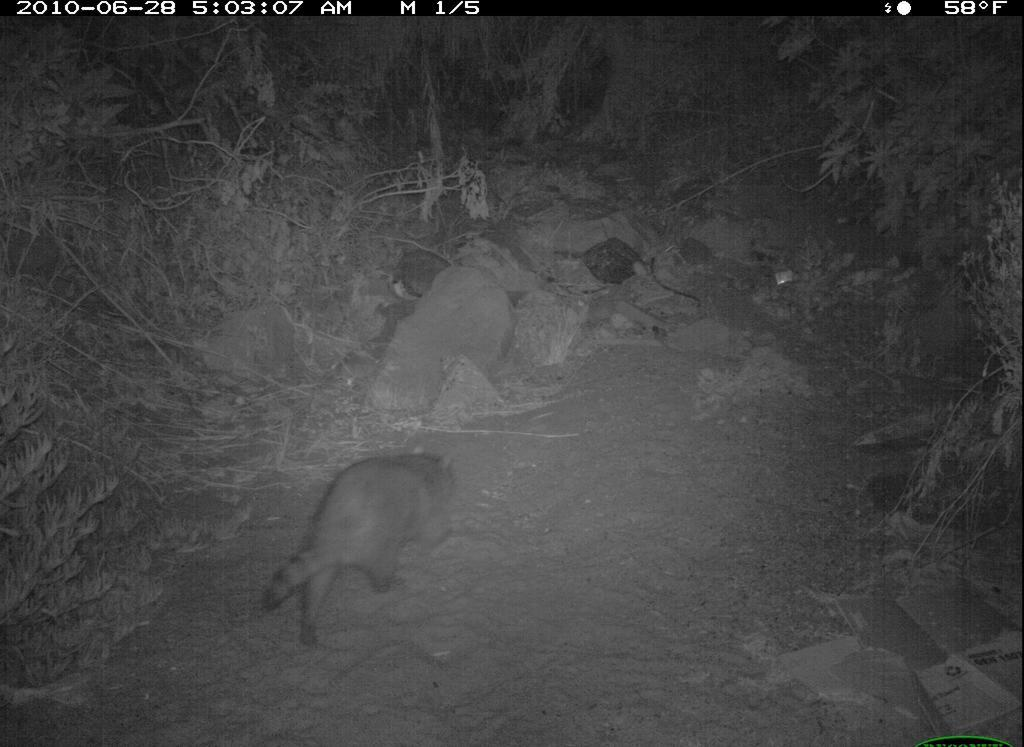raccoon: (258, 446, 466, 655)
